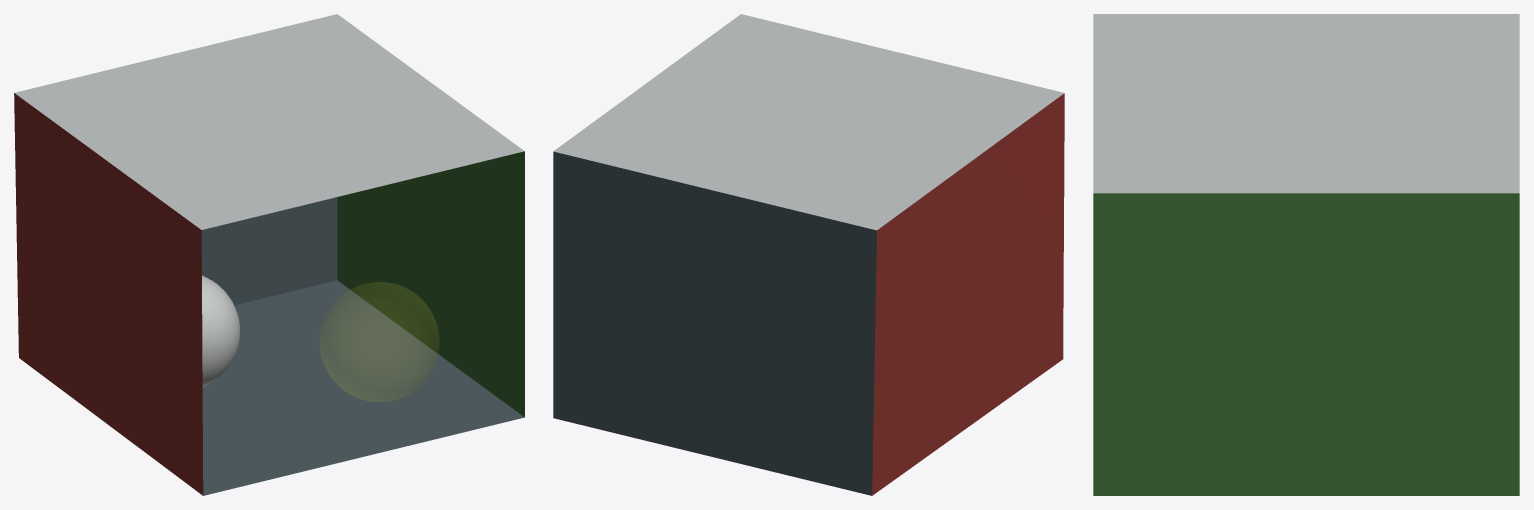
Rendered from CornellBox.obj.
The picture shows the model from 3 angles, left to right: view 1: azimuth 30°, elevation 25°; view 2: azimuth 150°, elevation 25°; view 3: azimuth 270°, elevation 25°; orthographic projection. The views are drawn at different scales.
Parts seen in each view (by area): view 1: g ceiling_ceiling, g leftWall_leftWall, g floor_floor, g rightWall_rightWall, g rightSphere_rightSphere, g backWall_backWall, g leftSphere_leftSphere; view 2: g backWall_backWall, g ceiling_ceiling, g leftWall_leftWall; view 3: g rightWall_rightWall, g ceiling_ceiling.
Part boxes in pixels (box(x1,y1,x2,y2)): g ceiling_ceiling: box(14, 14, 524, 229); g leftWall_leftWall: box(14, 93, 203, 495); g floor_floor: box(202, 280, 524, 495); g rightWall_rightWall: box(337, 151, 524, 417); g rightSphere_rightSphere: box(320, 282, 438, 401); g backWall_backWall: box(201, 197, 337, 305); g leftSphere_leftSphere: box(202, 275, 239, 386); g backWall_backWall: box(553, 151, 876, 495); g ceiling_ceiling: box(553, 14, 1064, 230); g leftWall_leftWall: box(872, 93, 1064, 495); g rightWall_rightWall: box(1093, 193, 1519, 495); g ceiling_ceiling: box(1093, 14, 1519, 193).
Size of the model in its own units: 2.02 by 1.59 by 2.03.
Materials: 8 (8 with a texture image).
